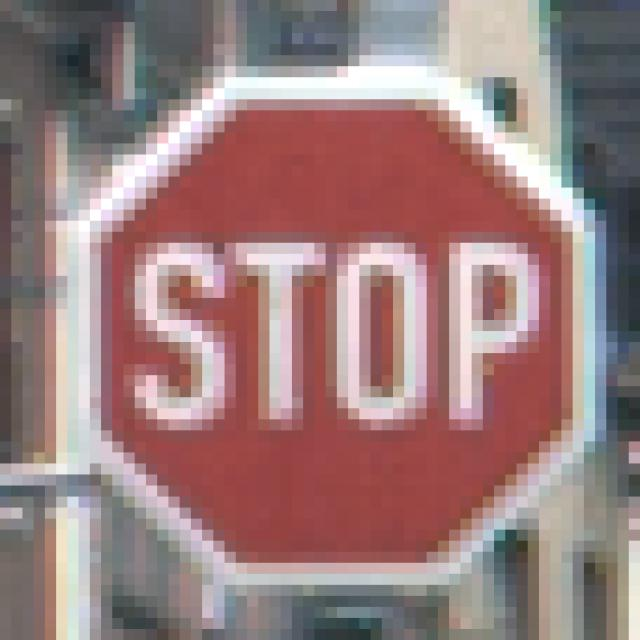STOP: (57, 67, 574, 575)
